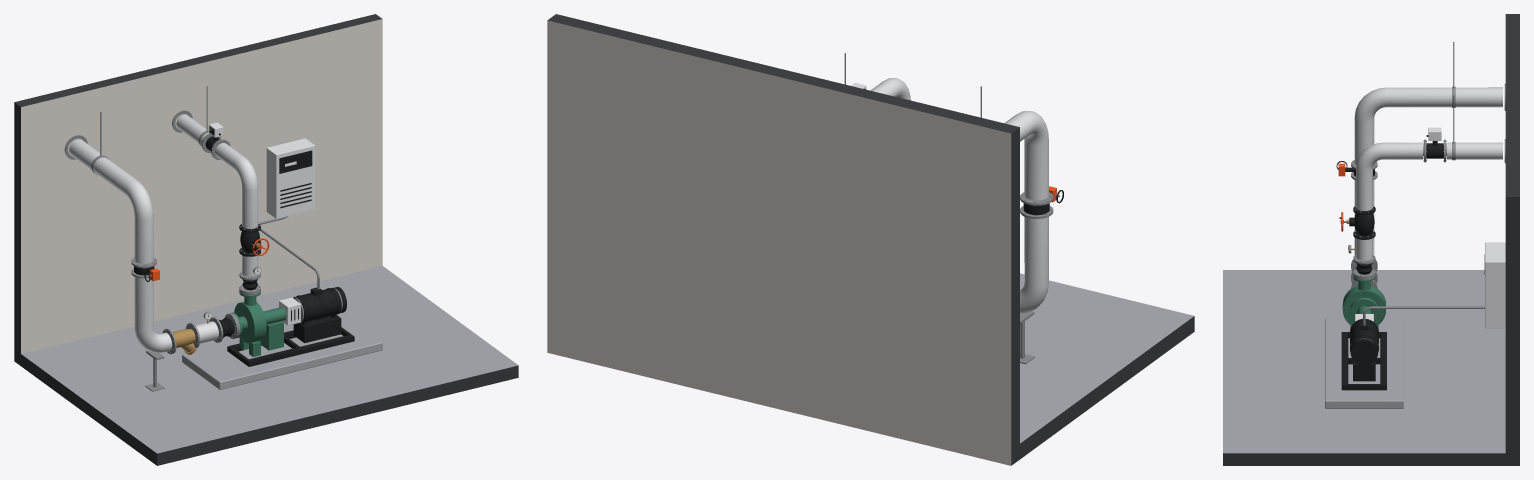
3 views of the same model, side by side, from view 1: azimuth 30°, elevation 25°; view 2: azimuth 150°, elevation 25°; view 3: azimuth 270°, elevation 25° (orthographic). The views are drawn at different scales.
Parts seen in each view (by area): view 1: wall_back, floor_slab, suction_pipe, pad, vfd, discharge_pipe, pump_casing, pump_motor, pump_baseplate, pipe_supports, pump_motor_base, pump_casing_front (+3 smaller); view 2: wall_back, floor_slab, suction_pipe, suction_valve; view 3: floor_slab, wall_back, pad, suction_pipe, discharge_pipe, vfd, pump_motor, pump_baseplate, pump_casing, tdv, pipe_supports, flow_meter (+4 smaller).
Part boxes in pixels (left/top/right/bottom): wall_back: left=14, top=14, right=382, bottom=365; floor_slab: left=21, top=266, right=518, bottom=465; suction_pipe: left=69, top=139, right=218, bottom=352; pad: left=182, top=315, right=382, bottom=389; vfd: left=258, top=138, right=319, bottom=289; discharge_pipe: left=176, top=114, right=258, bottom=276; pump_casing: left=232, top=292, right=286, bottom=356; pump_motor: left=293, top=287, right=346, bottom=325; pump_baseplate: left=227, top=327, right=354, bottom=366; pipe_supports: left=64, top=86, right=260, bottom=391; pump_motor_base: left=293, top=315, right=341, bottom=343; pump_casing_front: left=244, top=302, right=266, bottom=343; wall_back: left=547, top=14, right=1019, bottom=465; floor_slab: left=1020, top=273, right=1194, bottom=459; suction_pipe: left=1004, top=111, right=1048, bottom=314; suction_valve: left=1020, top=186, right=1063, bottom=219; floor_slab: left=1223, top=270, right=1505, bottom=465; wall_back: left=1505, top=14, right=1519, bottom=465; pad: left=1325, top=318, right=1403, bottom=408; suction_pipe: left=1354, top=87, right=1502, bottom=280; discharge_pipe: left=1356, top=142, right=1502, bottom=260; vfd: left=1363, top=242, right=1505, bottom=328; pump_motor: left=1350, top=318, right=1378, bottom=365; pump_baseplate: left=1341, top=332, right=1386, bottom=390; pump_casing: left=1350, top=276, right=1385, bottom=329; tdv: left=1344, top=205, right=1375, bottom=239; pipe_supports: left=1353, top=41, right=1505, bottom=280; flow_meter: left=1423, top=139, right=1446, bottom=162.
Bounding box in the file's own units: 4.6 × 3.15 × 3.15.
